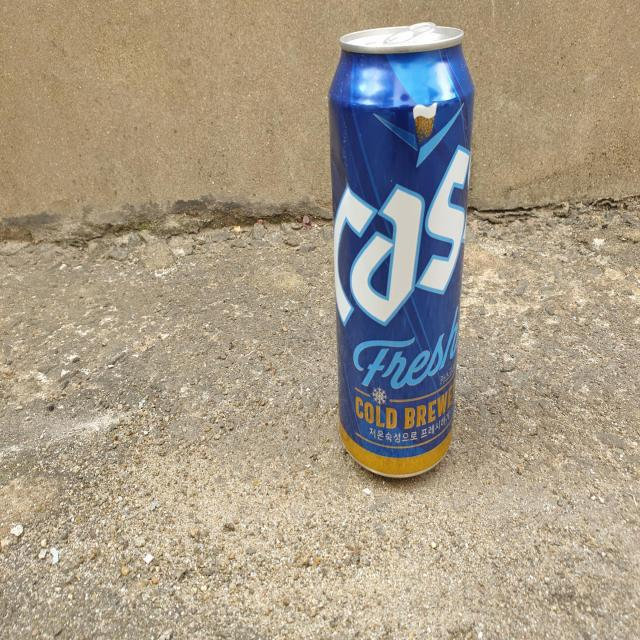can: (329, 21, 475, 478)
